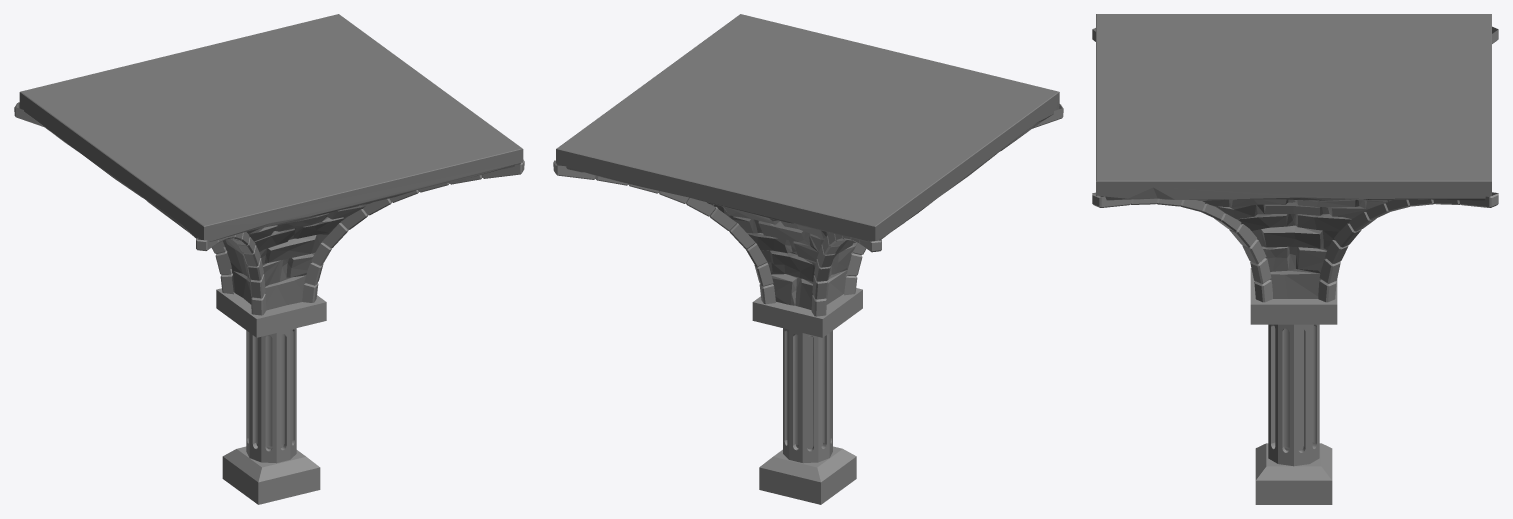
Rendered from modular_arch_c.FBX.
The picture shows the model from 3 angles, left to right: view 1: azimuth 30°, elevation 25°; view 2: azimuth 150°, elevation 25°; view 3: azimuth 270°, elevation 25°; orthographic projection. The views are drawn at different scales.
Parts seen in each view (by area): view 1: modular_arch_c; view 2: modular_arch_c; view 3: modular_arch_c.
Part boxes in pixels (x1,y1,x2,y2): modular_arch_c: [14, 14, 524, 504]; modular_arch_c: [553, 14, 1063, 504]; modular_arch_c: [1092, 14, 1498, 504].
Size of the model in its own units: 9.23 by 9.81 by 9.23.
